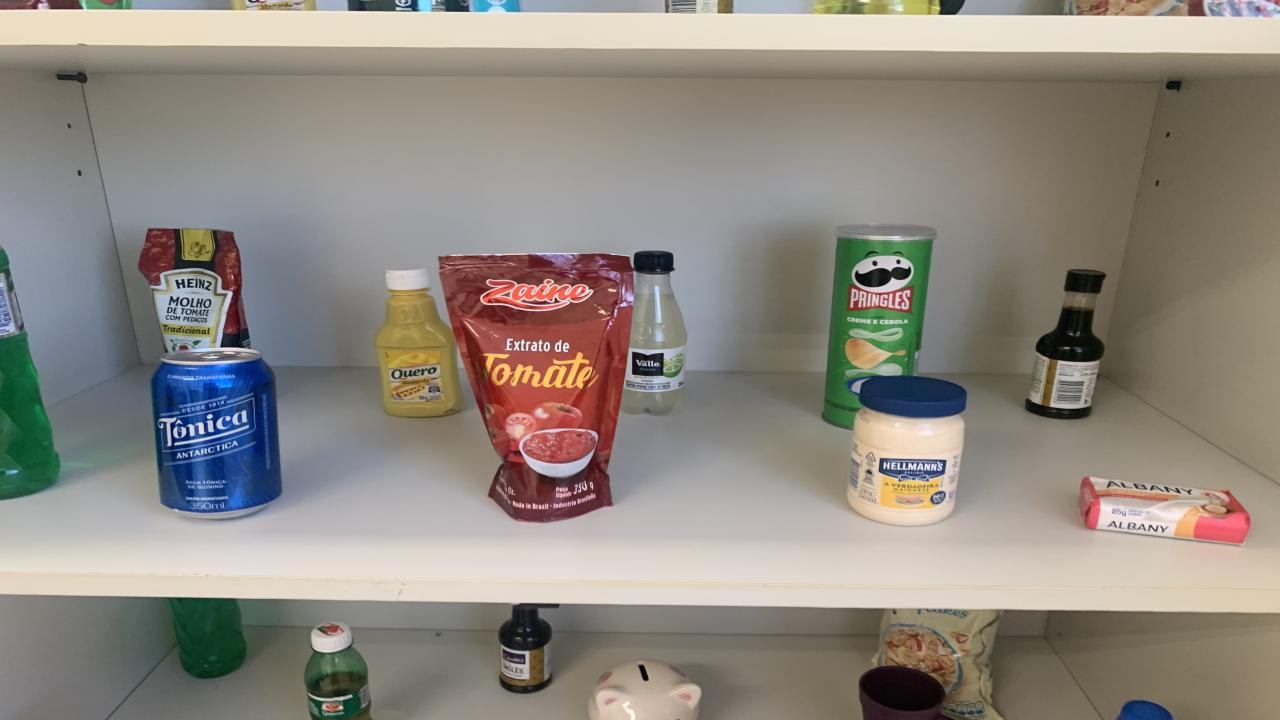Cleaner-Cleanup_Items: (470, 0, 522, 13)
Detergent-Cleanup_Items: (0, 248, 60, 499), (170, 598, 248, 679), (812, 0, 940, 15)
English_Sauce-Pantry_Items: (1025, 270, 1105, 418), (498, 604, 558, 694), (665, 0, 732, 13)
Flakes-Snacks: (872, 609, 1002, 720), (1065, 0, 1188, 17)
Guarana-Drinks: (305, 622, 370, 720)
Guarana_Can-Drinks: (348, 0, 470, 11)
Mayonnaise-Pantry_Items: (848, 375, 968, 525)
Mustard-Pantry_Items: (375, 268, 462, 416), (232, 0, 315, 11)
Pig_Safe-Miscellaneous: (588, 660, 702, 720), (1118, 699, 1172, 720)
Pringles-Snacks: (822, 225, 935, 428)
Soap-Cleanup_Items: (1080, 476, 1250, 544)
Soda-Drinks: (620, 251, 688, 414)
Tomato_Sauce-Pantry_Items: (440, 253, 635, 521), (138, 229, 250, 352)
Tonic-Drinks: (152, 349, 282, 518)
Tuna_Can-Pantry_Items: (1188, 0, 1280, 17)
